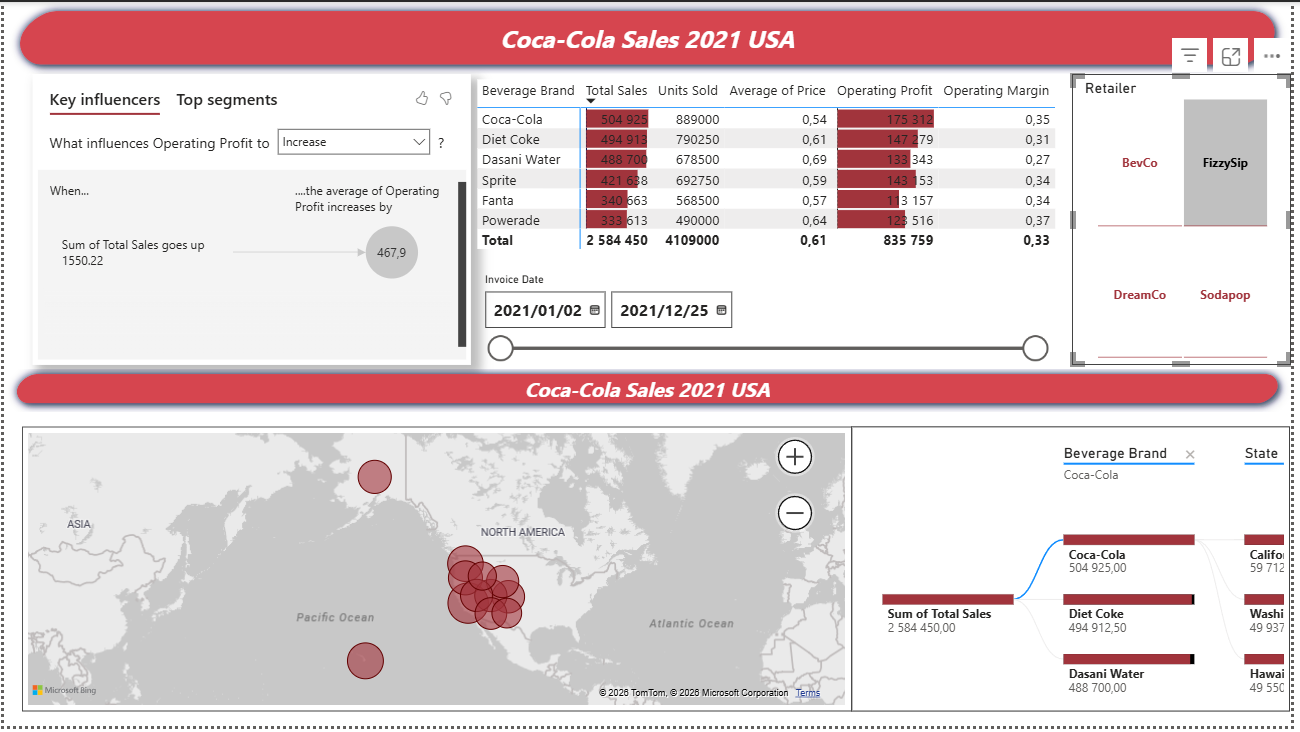

Layout of this report page (visuals, bound fields, positions):
{"tool":"powerbi","page":{"name":"Page 1","canvas":[1280,720],"ordinal":0},"visuals":[{"type":"shape","box":[0,0,1279.5,71.2],"z":0},{"type":"keyDriversVisual","fields":{"Target":["Table 1 (Data).Operating Profit"],"ExplainBy":["Table 1 (Data).Beverage Brand","Table 1 (Data).Region","Sum(Table 1 (Data).Total Sales)"]},"box":[28.8,71.2,436.1,289.2],"z":2000},{"type":"map","fields":{"Category":["Table 1 (Data).State"],"Size":["Sum(Table 1 (Data).Total Sales)"]},"box":[18.2,422.5,825.2,283.2],"z":3000},{"type":"pivotTable","fields":{"Rows":["Table 1 (Data).Beverage Brand"],"Values":["Sum(Table 1 (Data).Total Sales)","Sum(Table 1 (Data).Units Sold)","Avg(Table 1 (Data).Price per Unit)","Sum(Table 1 (Data).Operating Profit)","Avg(Table 1 (Data).Operating Margin)"]},"box":[464.9,71.2,596.6,289.2],"z":4000},{"type":"shape","box":[0,360.4,1279.5,46.9],"z":5000},{"type":"slicer","fields":{"Values":["Table 1 (Data).Invoice Date"]},"box":[464.9,263.5,581.5,96.9],"z":6000},{"type":"decompositionTreeVisual","fields":{"Analyze":["Sum(Table 1 (Data).Total Sales)"],"ExplainBy":["Table 1 (Data).Beverage Brand","Table 1 (Data).State","Table 1 (Data).Units Sold"]},"box":[843,422,436,283],"z":7000},{"type":"slicer","fields":{"Values":["Table 1 (Data).Retailer"]},"box":[1061.5,71.2,218,289.2],"z":8000}]}

Visuals, with their boxes in screenshot pixels (x1, y1, x2, y2), scaled from the page's 1280x720 canvas onto the 1300x732 screenshot:
shape: region(0, 0, 1299, 72)
keyDriversVisual - Table 1 (Data).Operating Profit x Table 1 (Data).Beverage Brand: region(29, 72, 472, 366)
map - Table 1 (Data).State x Sum(Table 1 (Data).Total Sales): region(18, 430, 857, 717)
pivotTable - Table 1 (Data).Beverage Brand x Sum(Table 1 (Data).Total Sales): region(472, 72, 1078, 366)
shape: region(0, 366, 1299, 414)
slicer - Table 1 (Data).Invoice Date: region(472, 268, 1063, 366)
decompositionTreeVisual - Sum(Table 1 (Data).Total Sales) x Table 1 (Data).Beverage Brand: region(856, 429, 1299, 717)
slicer - Table 1 (Data).Retailer: region(1078, 72, 1299, 366)
